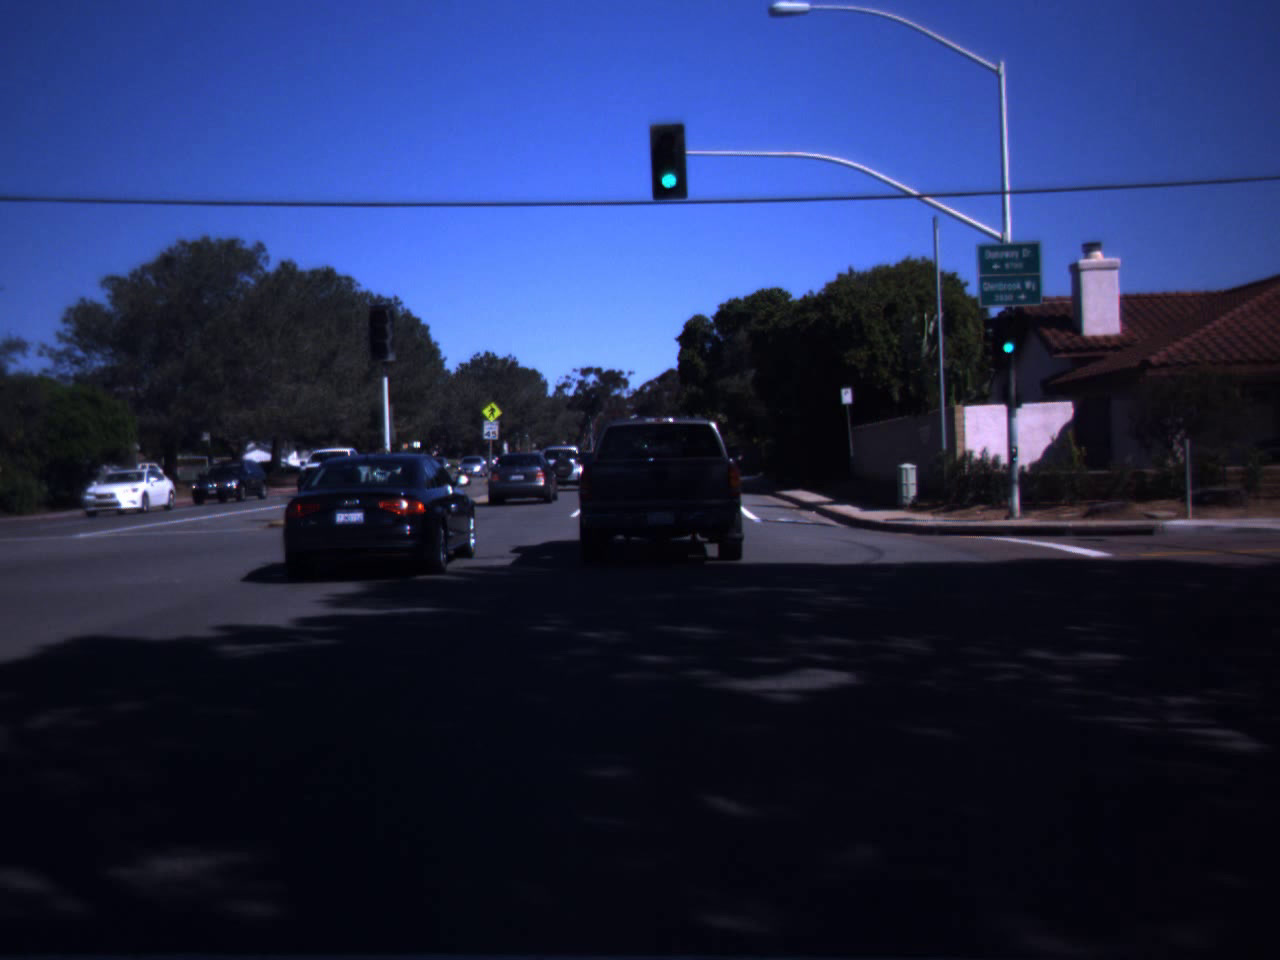go: (648, 133, 690, 193), (1000, 316, 1024, 356)
